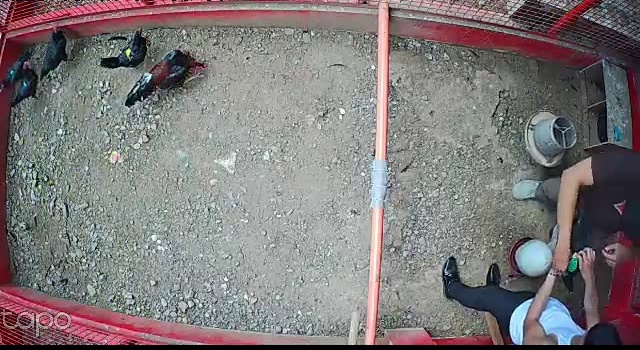Chicken: (98, 27, 150, 70), (40, 24, 76, 82), (11, 57, 43, 112), (0, 48, 33, 97)
Rooster: (126, 43, 208, 107)
Saddle_Color_Blue: (22, 81, 29, 87)
Saddle_Color_Yellow: (125, 48, 132, 57)
